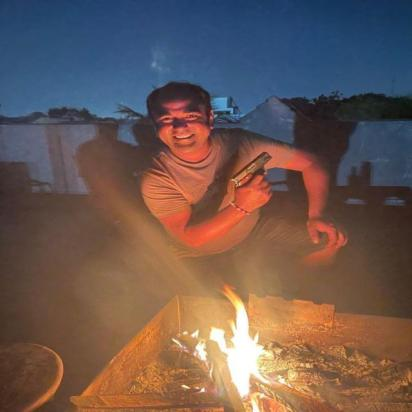Gun: (222, 150, 276, 200)
